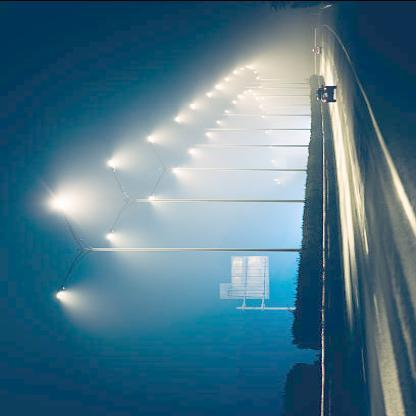on: (23, 159, 133, 332), (163, 40, 288, 190)
